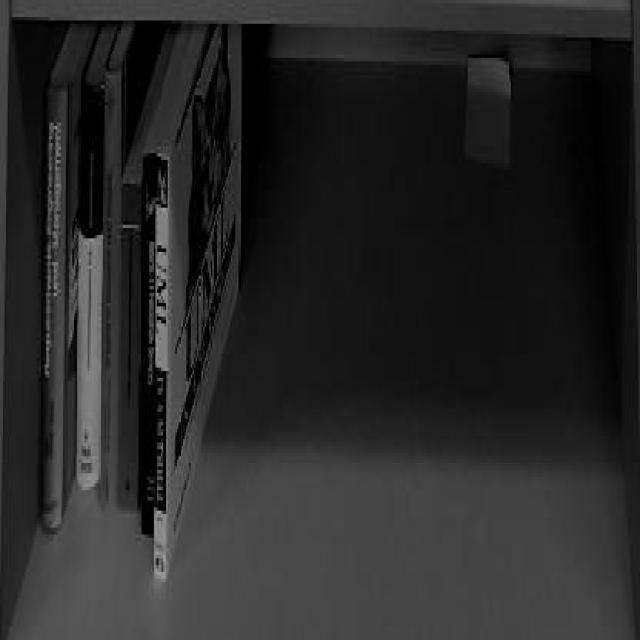book: (113, 24, 246, 608), (80, 7, 140, 509), (33, 66, 74, 531)
